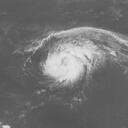cyclone: (36, 27, 106, 85)
